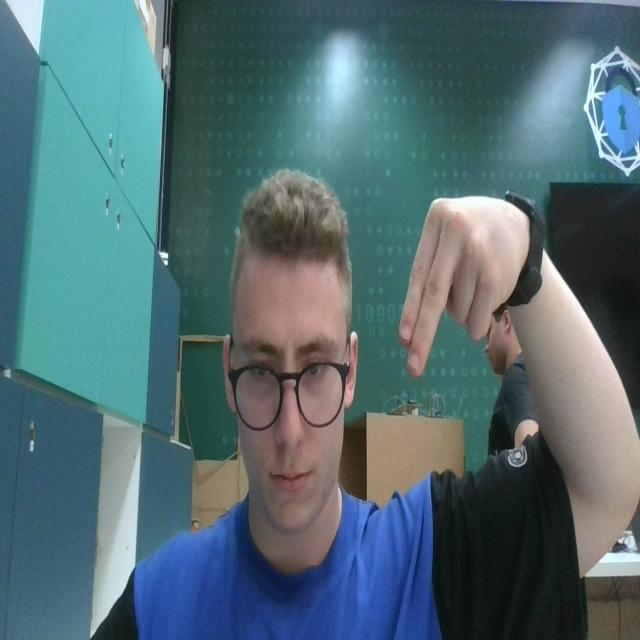N: (396, 187, 505, 375)
